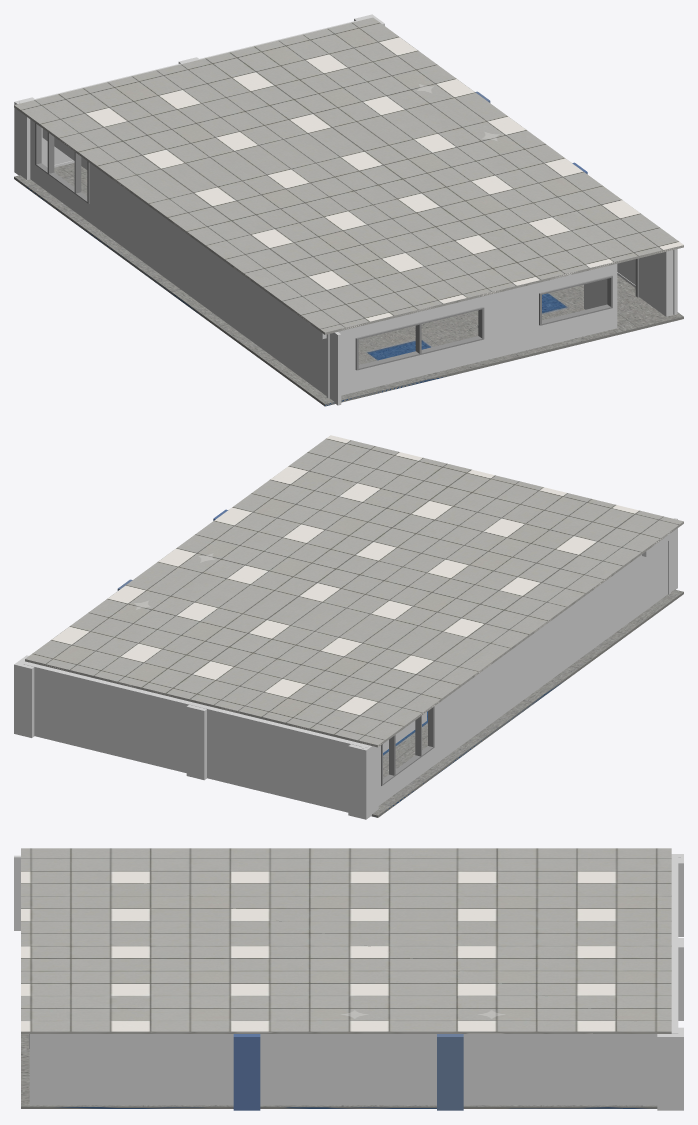
The model's file is AulaFinal.fbx.
The picture shows the model from 3 angles, top to bottom: view 1: azimuth 30°, elevation 25°; view 2: azimuth 150°, elevation 25°; view 3: azimuth 270°, elevation 25°; orthographic projection. The views are drawn at different scales.
Parts seen in each view (by area): view 1: Cube.021, Cube.004, Cube.010, Cube.026, Cube.024, Cube.005, Cube.017, Cube.002, Cube.003; view 2: Cube.021, Cube.002, Cube.004, Cube.010, Cube.017, Cube.015, Cube.013, Cube.024; view 3: Cube.021, Cube.003, Cube.010, Cube.009, Cube.015, Cube.014, Cube.002, Cube.004, Cube.017, Cube.013.
Part boxes in pixels (<box>): Cube.021: <box>14,17,683,334</box>; Cube.004: <box>19,101,341,405</box>; Cube.010: <box>14,163,683,406</box>; Cube.026: <box>326,264,617,398</box>; Cube.024: <box>35,123,612,370</box>; Cube.005: <box>297,250,673,339</box>; Cube.017: <box>14,97,45,179</box>; Cube.002: <box>19,17,368,166</box>; Cube.003: <box>617,249,677,314</box>; Cube.021: <box>25,435,683,747</box>; Cube.002: <box>23,661,369,812</box>; Cube.004: <box>361,518,677,805</box>; Cube.010: <box>371,589,683,817</box>; Cube.017: <box>348,744,378,819</box>; Cube.015: <box>14,655,34,737</box>; Cube.013: <box>186,705,206,780</box>; Cube.024: <box>381,706,434,785</box>; Cube.021: <box>21,848,671,1033</box>; Cube.003: <box>29,1034,657,1105</box>; Cube.010: <box>21,1034,657,1108</box>; Cube.009: <box>233,1034,260,1110</box>; Cube.015: <box>657,1027,683,1110</box>; Cube.014: <box>437,1034,463,1110</box>; Cube.002: <box>671,855,678,1033</box>; Cube.004: <box>14,855,680,930</box>; Cube.017: <box>671,854,683,936</box>; Cube.013: <box>678,938,683,1020</box>.
Bounding box in the file's own units: 3246 × 652 × 4943.
6 materials, 2 textured.
